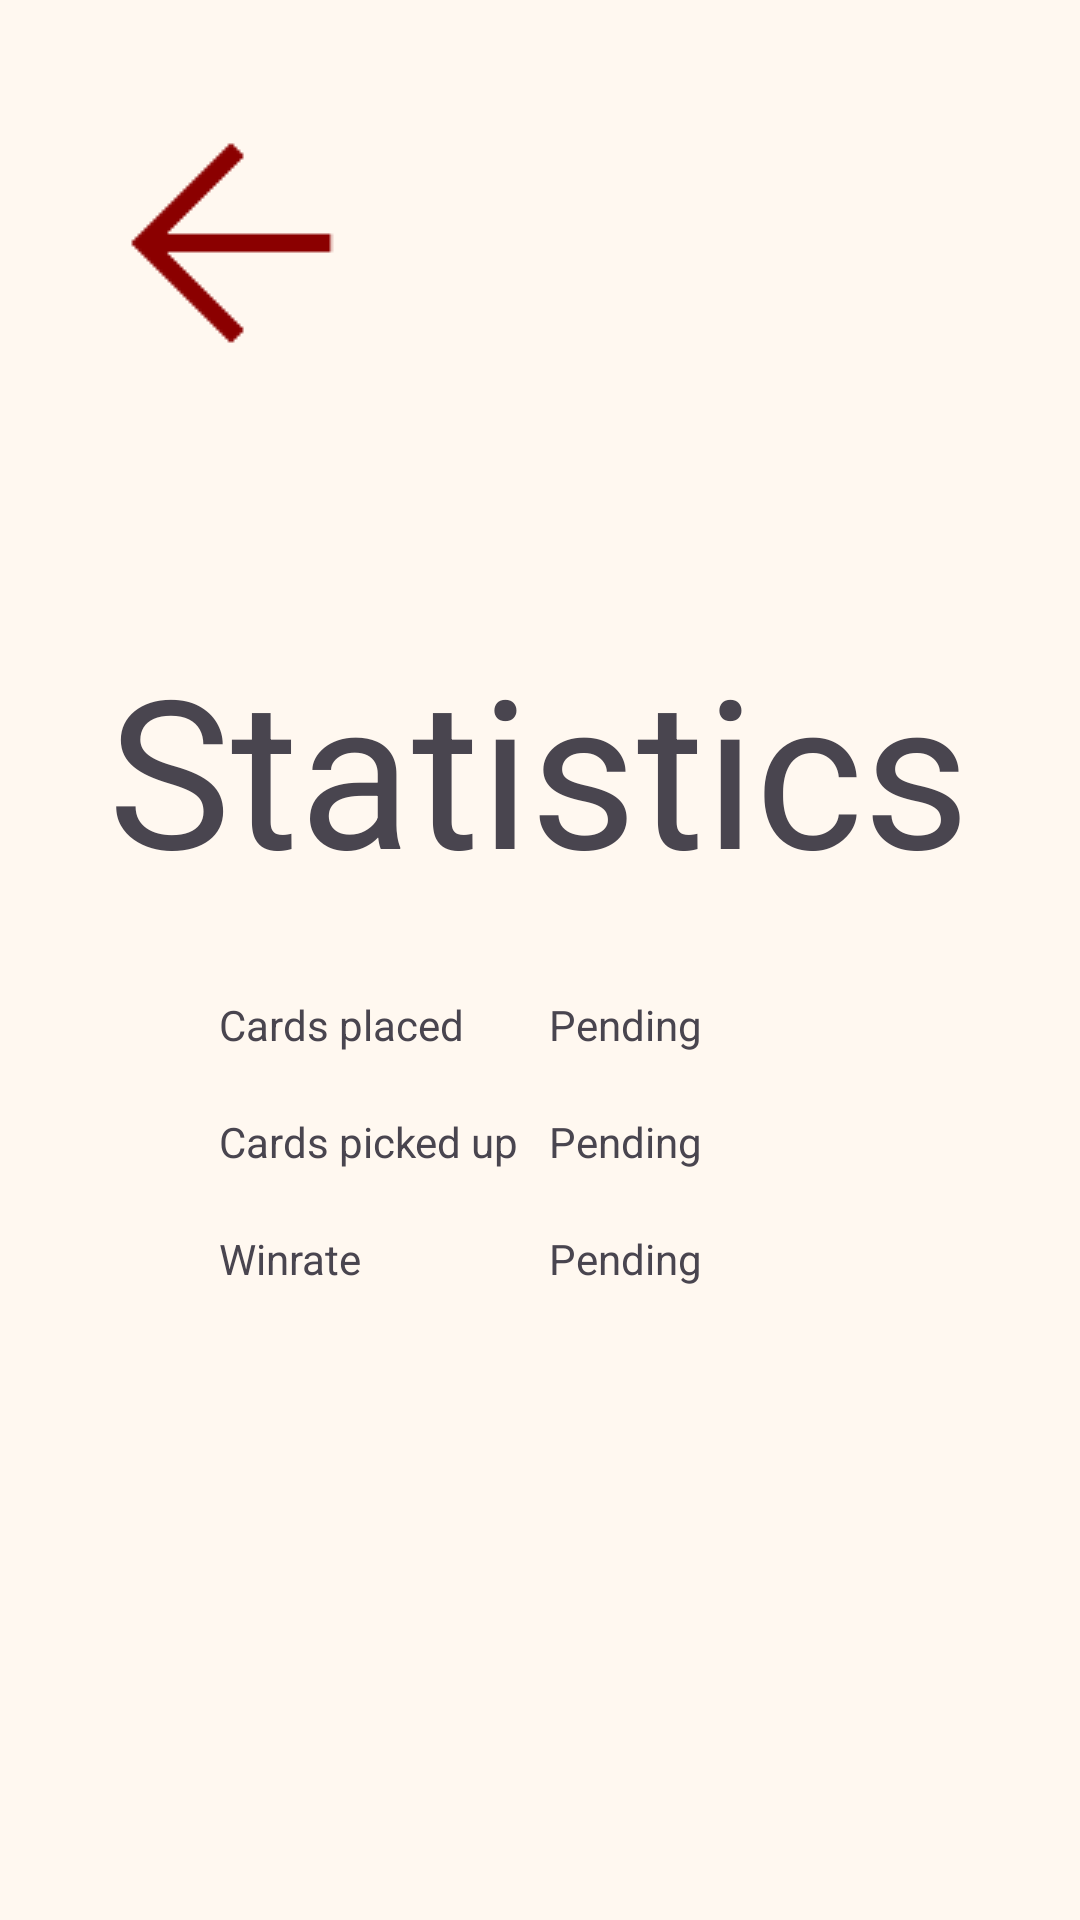

Icons on this 1080w x 1920h Android screen, each with its box as box=[x1, y1, x2, y2]:
arrowback: box=[131, 143, 333, 343]
